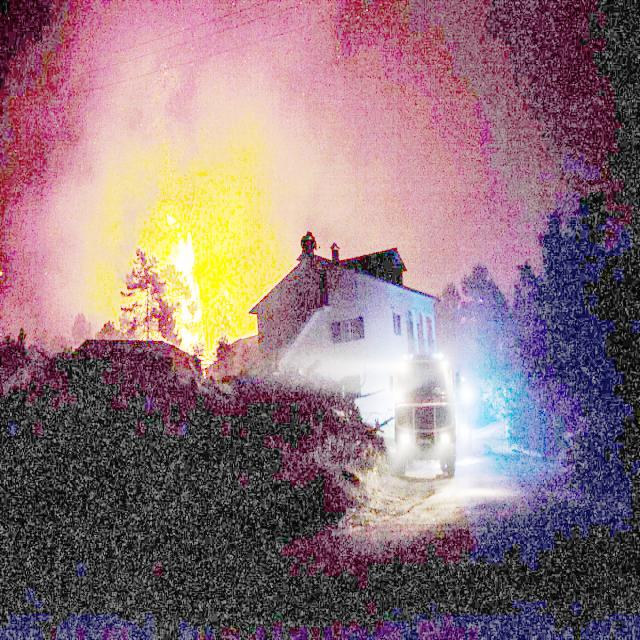api: (170, 223, 213, 357)
asap: (33, 7, 188, 350), (188, 37, 326, 345)
